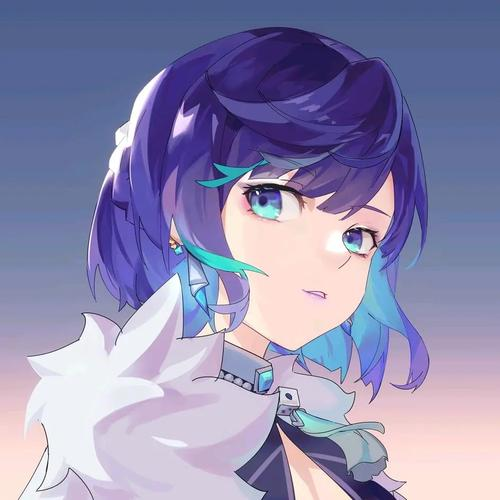夜兰: (80, 27, 430, 500)
